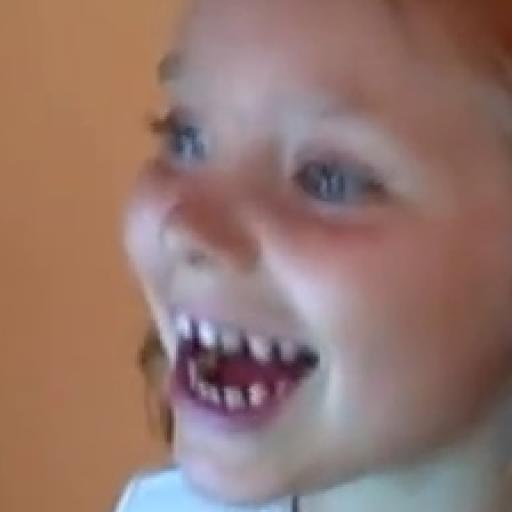Autism: (73, 34, 512, 512)
